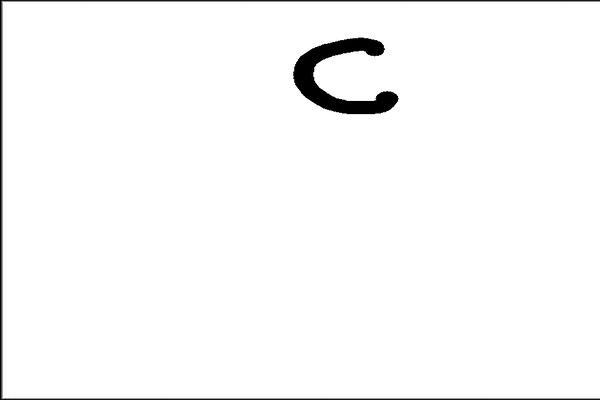C: (287, 31, 403, 118)
